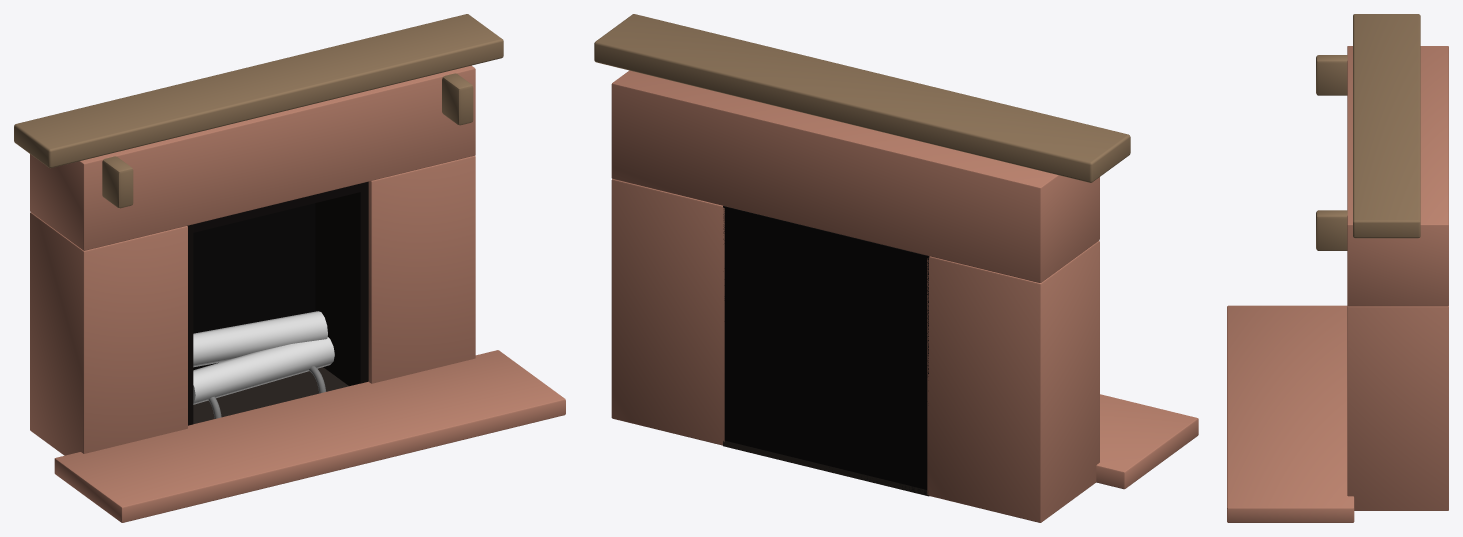
The model's file is fireplace_brick.glb.
3 renders of one model, left to right at view 1: azimuth 30°, elevation 25°; view 2: azimuth 150°, elevation 25°; view 3: azimuth 270°, elevation 25°, orthographic. The views are drawn at different scales.
Parts seen in each view (by area): view 1: fp.lintel, fp.hearth, fp.left, fp.mantel, fp.right, fp.back, fp.cheek1, fp.log0, fp.log1, fp.floor, fp.fbtop, fp.bracketR (+2 smaller); view 2: fp.lintel, fp.back, fp.left, fp.mantel, fp.right, fp.hearth, fp.floor; view 3: fp.hearth, fp.right, fp.mantel, fp.lintel, fp.bracketL, fp.bracketR.
Boxes of the visible parts, <box> form: fp.lintel: <box>30,65,475,250</box>; fp.hearth: <box>54,350,565,522</box>; fp.left: <box>30,212,187,455</box>; fp.mantel: <box>14,14,503,168</box>; fp.right: <box>368,155,475,383</box>; fp.back: <box>193,203,315,370</box>; fp.cheek1: <box>315,181,368,385</box>; fp.log0: <box>193,337,334,404</box>; fp.log1: <box>193,311,327,367</box>; fp.floor: <box>193,367,348,424</box>; fp.fbtop: <box>193,183,360,232</box>; fp.bracketR: <box>442,73,473,125</box>; fp.lintel: <box>611,70,1099,282</box>; fp.back: <box>723,206,929,495</box>; fp.left: <box>927,241,1099,522</box>; fp.mantel: <box>594,14,1130,182</box>; fp.right: <box>611,179,724,445</box>; fp.hearth: <box>1096,394,1198,489</box>; fp.floor: <box>723,440,929,496</box>; fp.hearth: <box>1227,305,1354,522</box>; fp.right: <box>1347,305,1448,510</box>; fp.mantel: <box>1353,14,1420,238</box>; fp.lintel: <box>1347,46,1448,306</box>; fp.bracketL: <box>1316,55,1347,95</box>; fp.bracketR: <box>1316,210,1347,250</box>.
Bounding box in the file's own units: 1.74 × 1.19 × 0.785.
